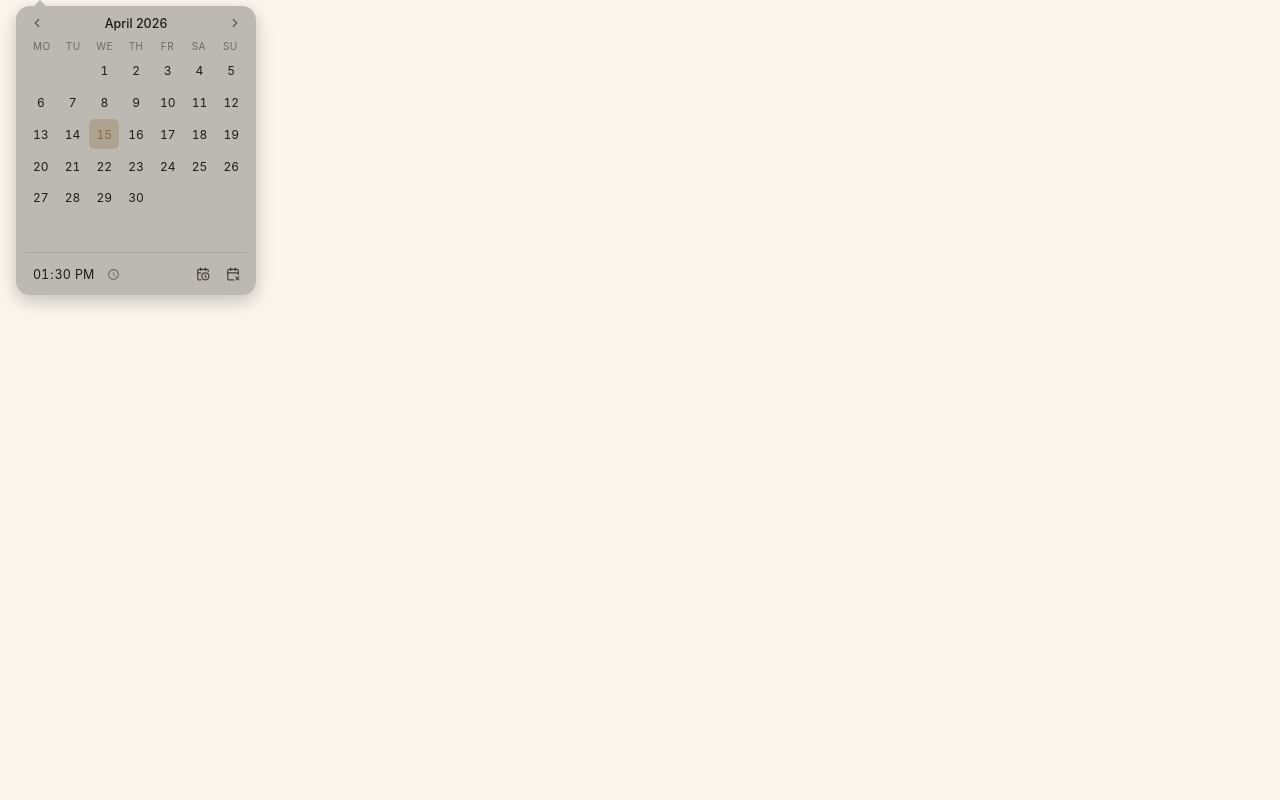
Test: DateTimeBubble — dirty indicators › changing the time adds the .changed class and a .dot on Update
Step 1. Replace the text in the time field named "Scheduled time" with "09:45" → (78, 274), box [26,263,129,286]
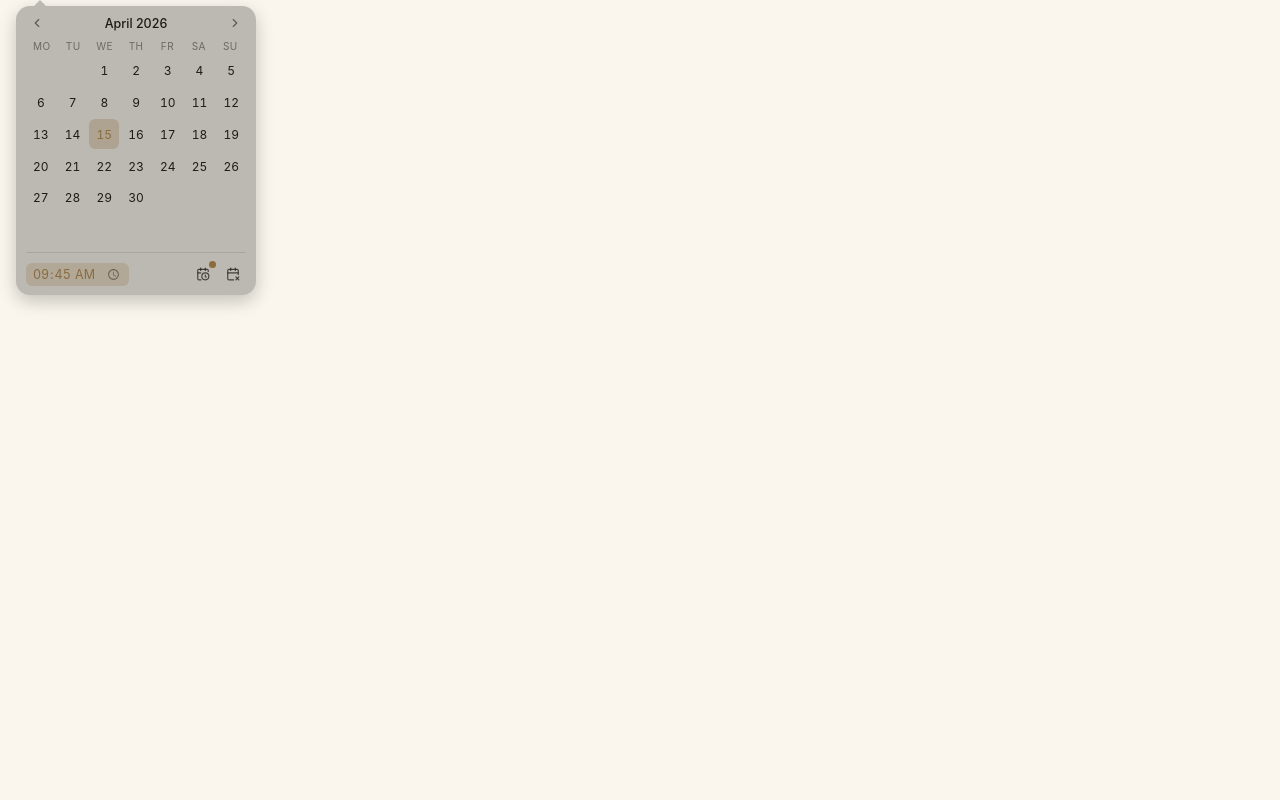
Expected: the element with class "dot" is shown, [209,261,216,268]
